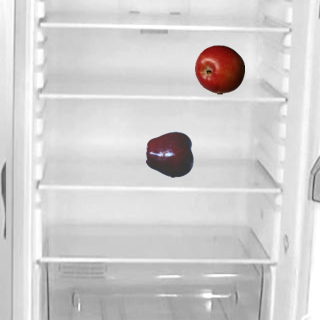Apple Braeburn: (194, 44, 244, 94)
Apple Red Delicious: (145, 129, 195, 179)
